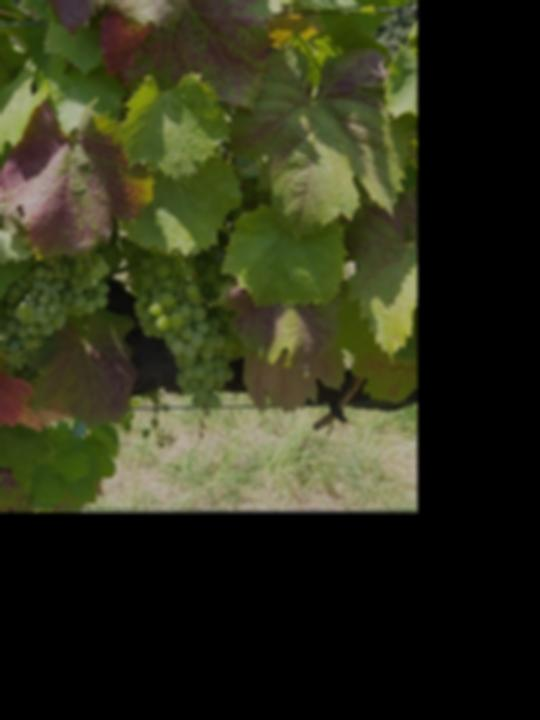grape: (127, 241, 254, 444), (0, 250, 112, 380)
